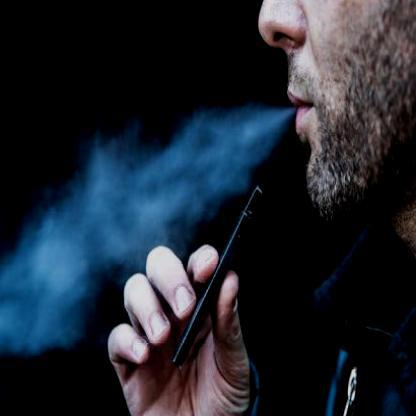cigarette: (170, 184, 266, 371)
smoke: (0, 190, 112, 360), (56, 133, 207, 252), (192, 101, 290, 185)
